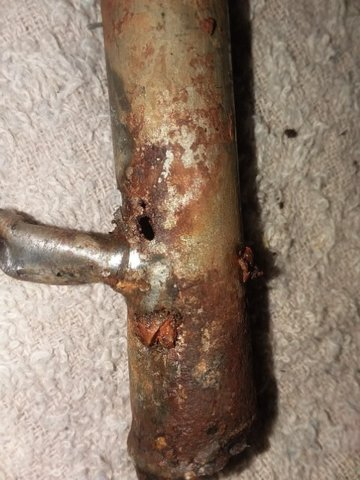Moderate: (42, 222, 134, 297)
Severe: (107, 102, 274, 474)
